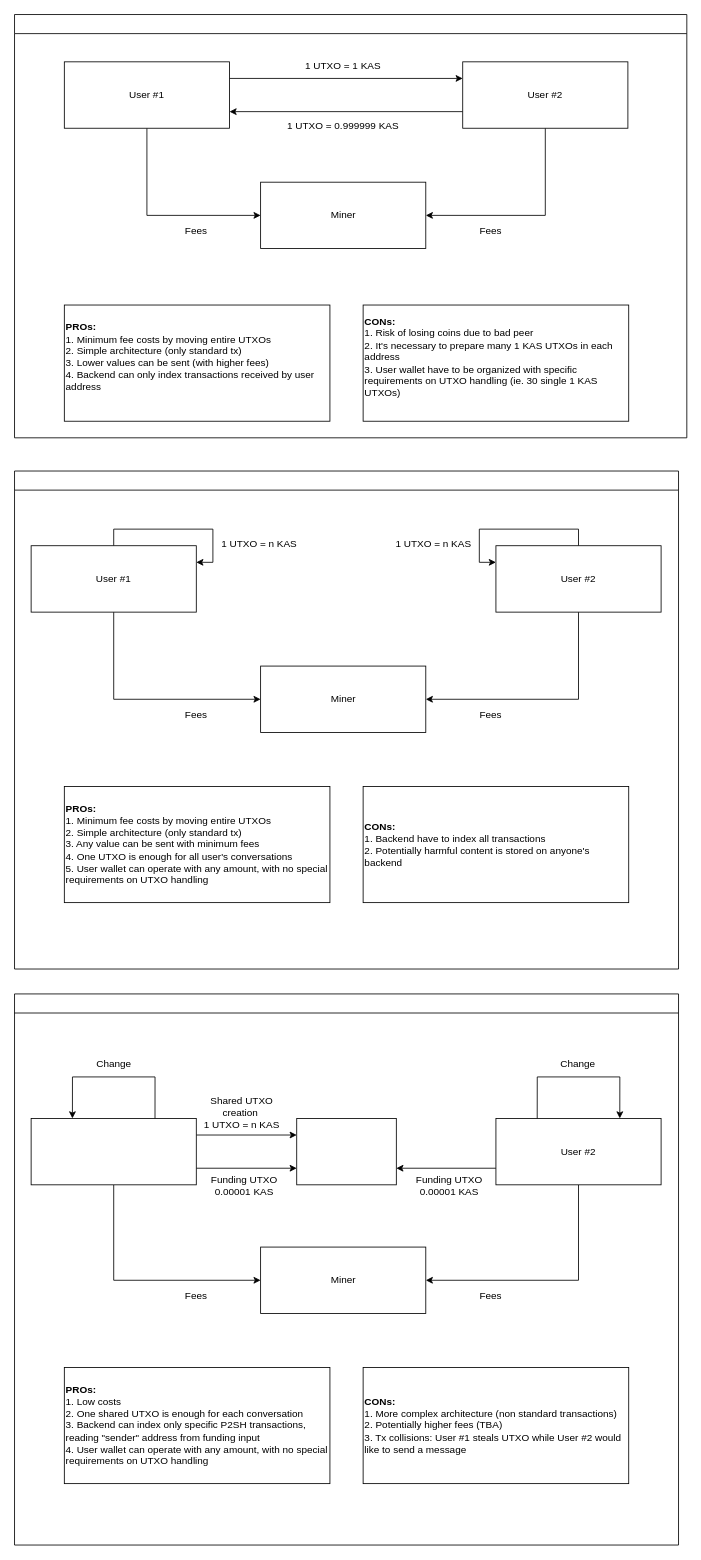
The diagram is 701 pixels wide and 1560 high, and some of its shapes have lost their labels. Each missing label, with the box of its shape:
P2SH: (296, 1118, 396, 1185)
Send 1 KAS UTXO to peer's address: (14, 14, 687, 438)
Send UTXO to user address: (14, 470, 679, 969)
Spend KIP-10 UTXO, adding few sompi: (14, 993, 679, 1545)
User #1 (opens the conversation): (30, 1118, 196, 1185)
